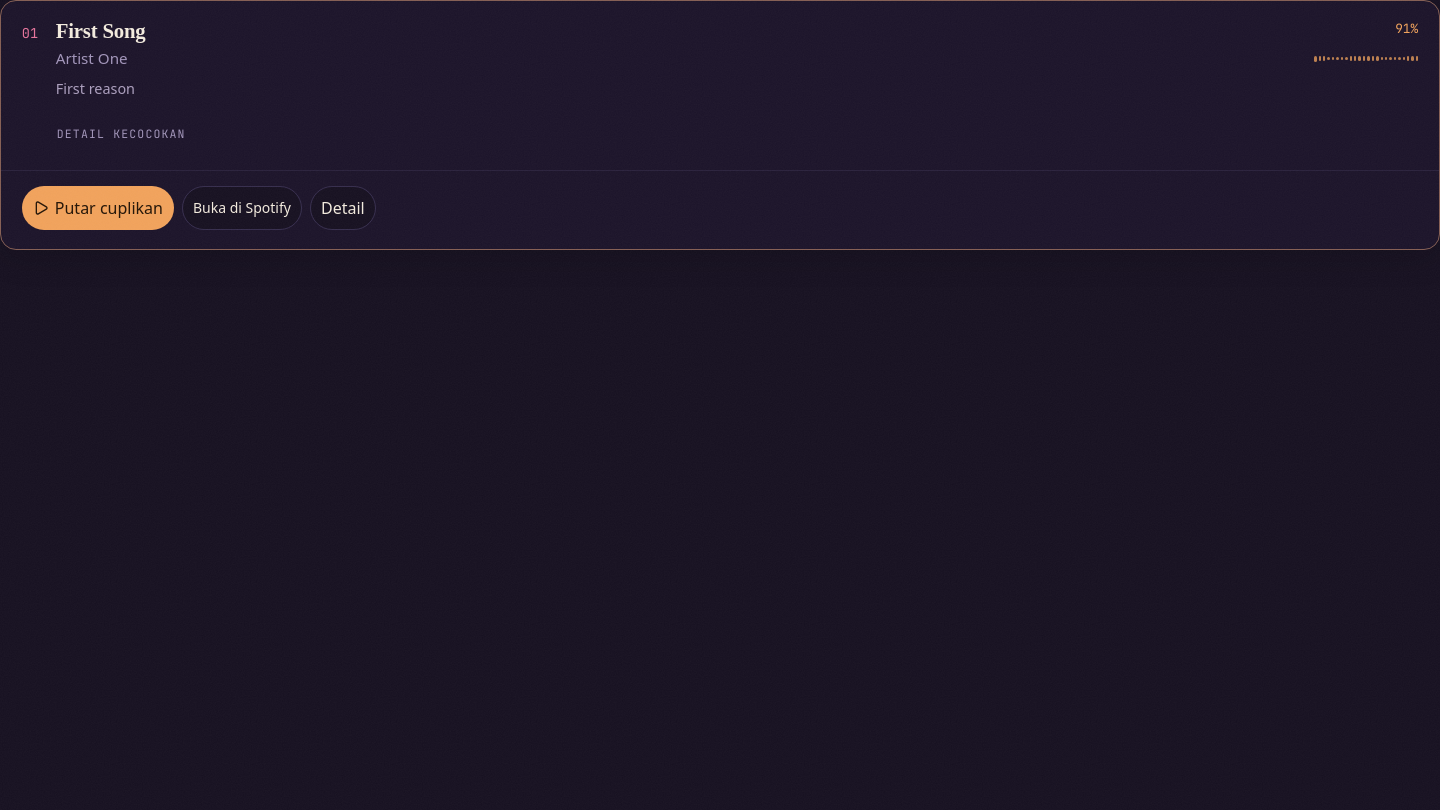
SongCard › opens an associated accessible dialog with 44px controls
Click the button "Detail". click: (343, 208)
box: 310,186 -> 376,230
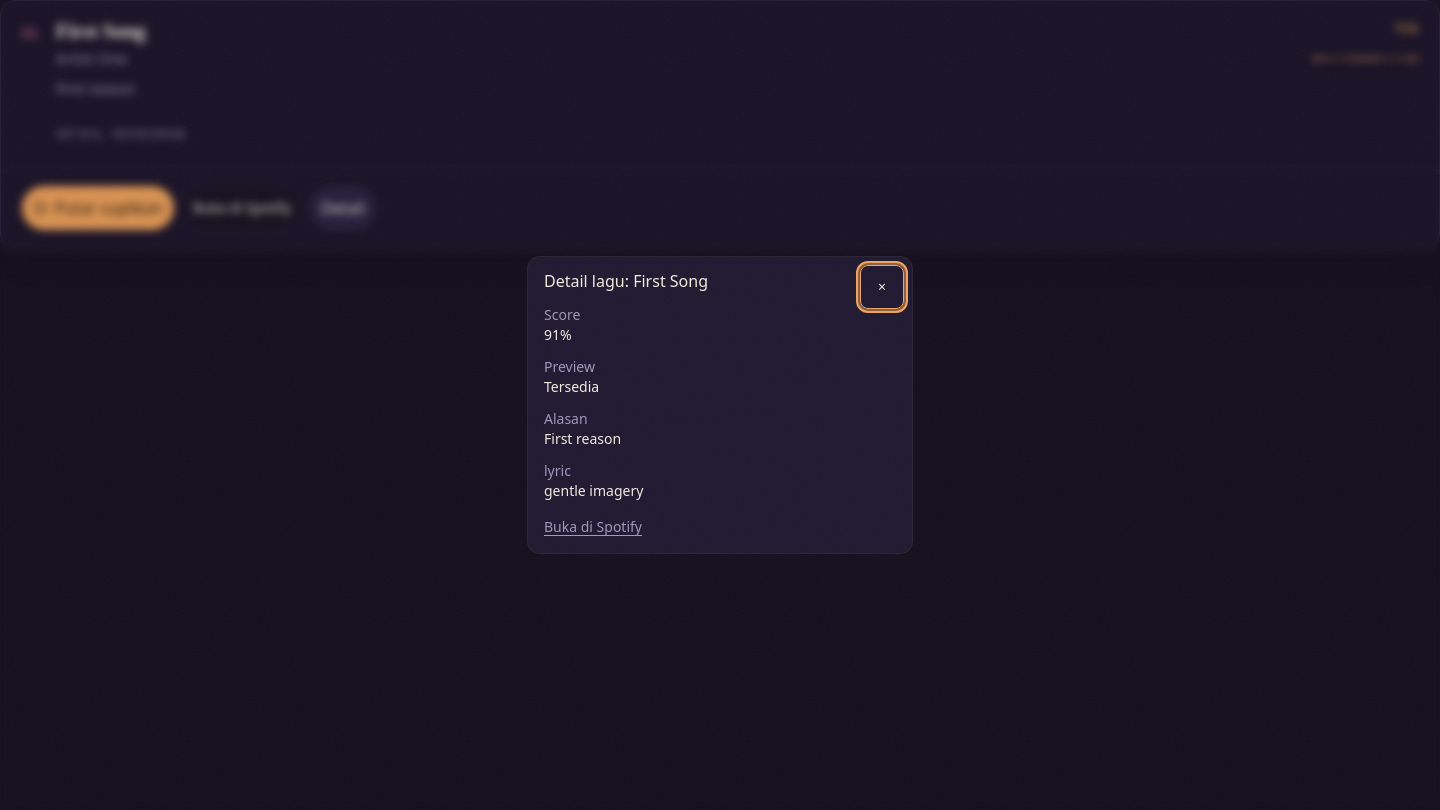
Result: the dialog shows "91%" at 544,325 -> 572,344
Result: the dialog shows "Tersedia" at 544,377 -> 599,396
Result: the dialog shows "First reason" at 544,429 -> 621,448
